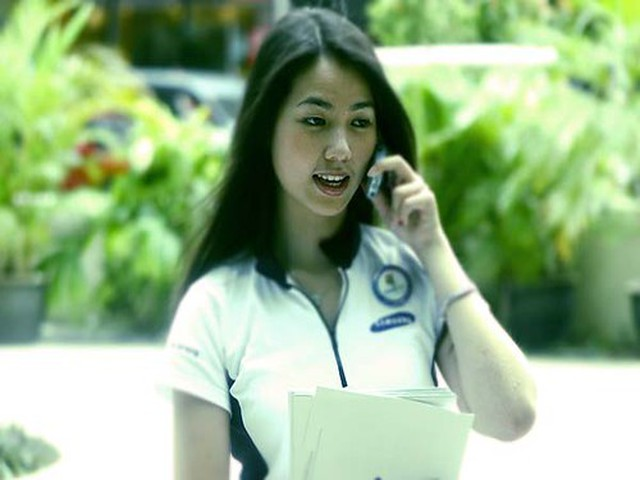Person: (164, 18, 550, 472)
